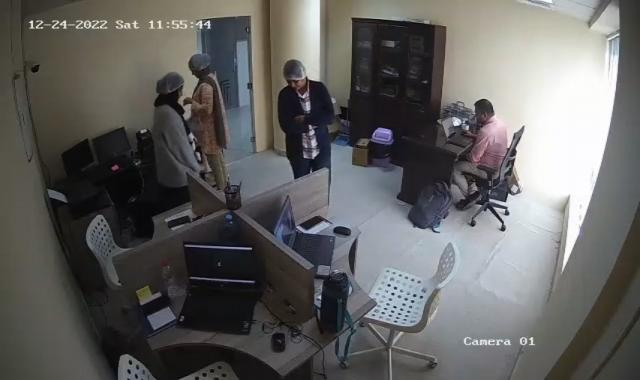hairnet: (282, 59, 308, 91), (158, 72, 186, 101), (187, 53, 215, 77)
no_hairnet: (472, 97, 494, 128)
